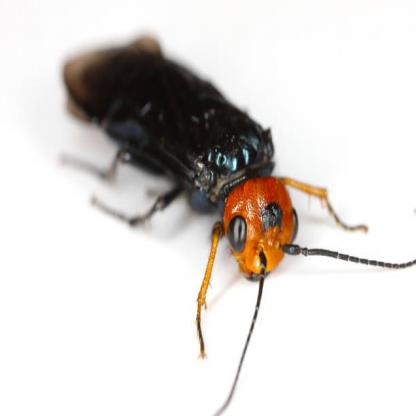sawfly: (56, 25, 416, 416)
